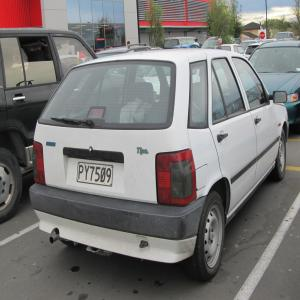Vehicle-registration-plate: (75, 162, 114, 196)
